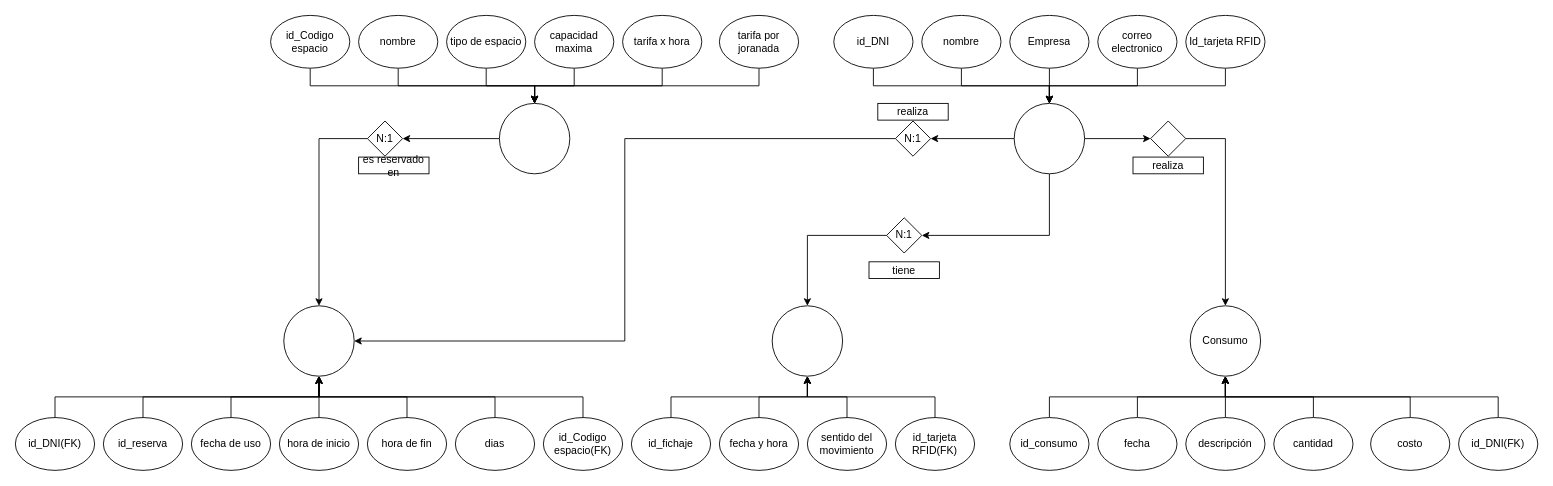
The diagram is 1553 pixels wide and 486 high, and some of its shapes have lost their labels. Here are the shapes that lost their labels. From the top down, the centre of each, then its label:
(x=534, y=138): Espacio Trabajo
(x=1049, y=138): Miembro
(x=1168, y=138): 1:N
(x=318, y=340): Reserva
(x=807, y=340): Control de Acceso
